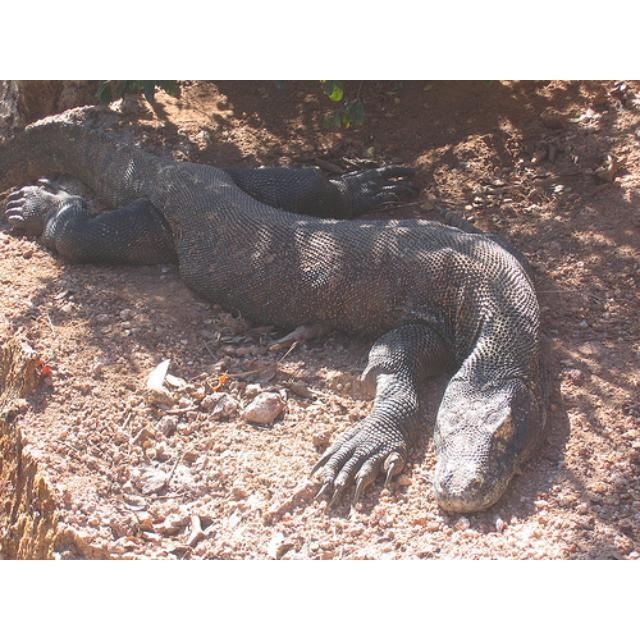KomodoDragon: (0, 106, 546, 519)
